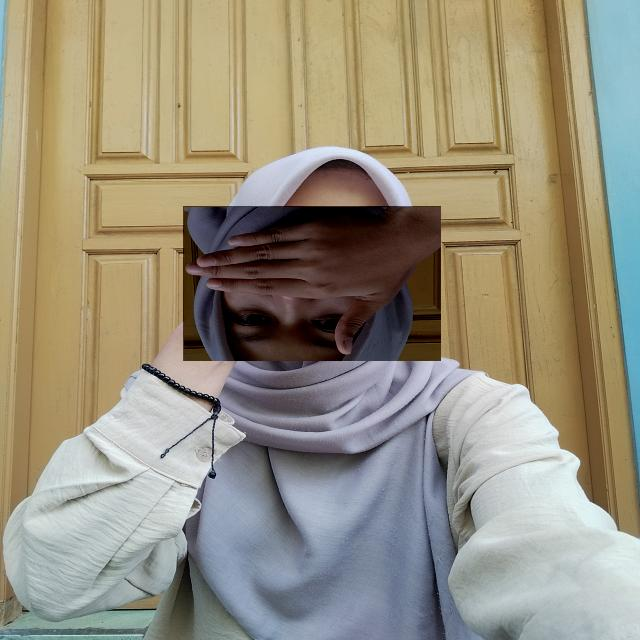buruk: (183, 206, 441, 361)
